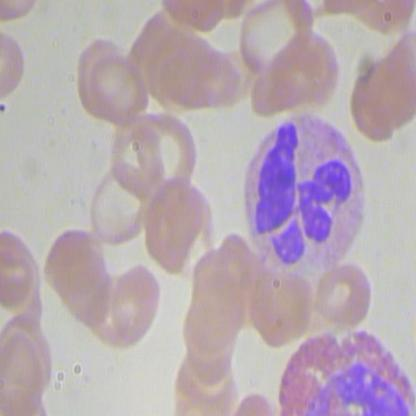RBC: (137, 170, 212, 281), (233, 1, 314, 84), (244, 264, 318, 349), (85, 159, 155, 248), (103, 260, 168, 346), (88, 48, 155, 124), (312, 257, 380, 328)
WBC: (234, 107, 371, 275), (272, 331, 415, 415)
